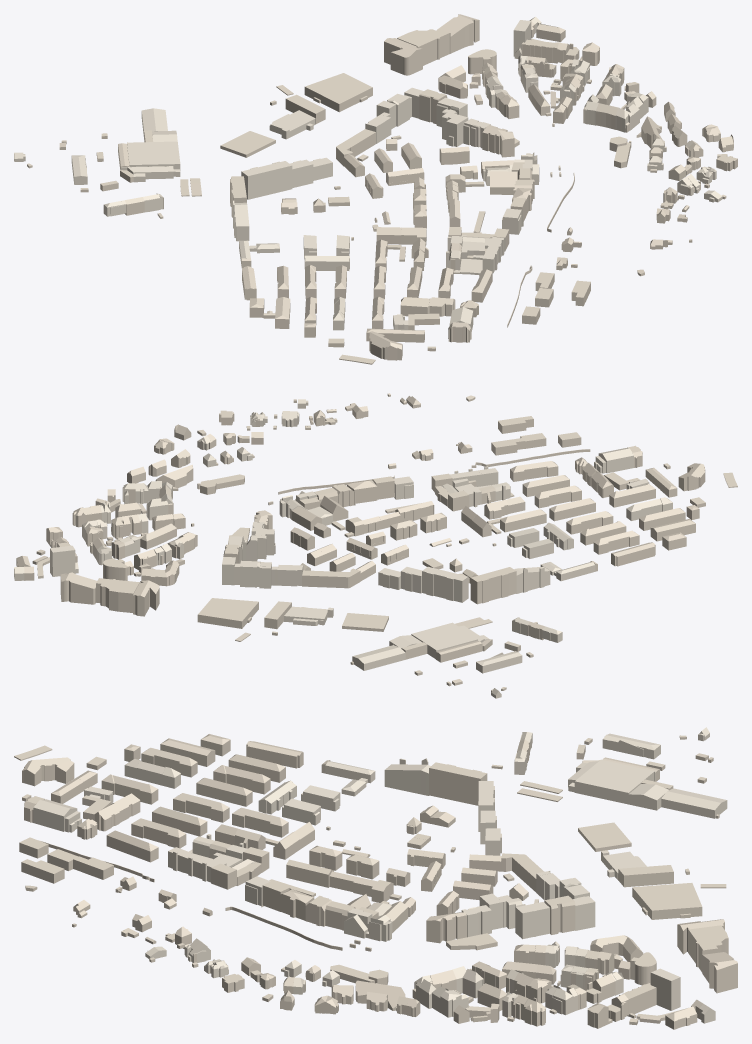
3 renders of one model, top to bottom at view 1: azimuth 30°, elevation 25°; view 2: azimuth 150°, elevation 25°; view 3: azimuth 270°, elevation 25°, orthographic. The views are drawn at different scales.
Bounding box in the file's own units: 616 × 45.09 × 632.
